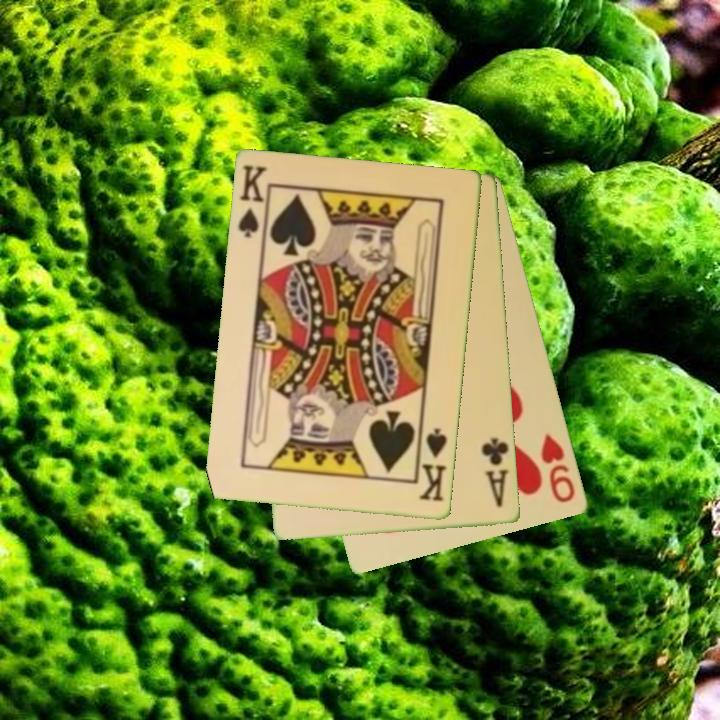9h: (538, 431, 578, 506)
Ac: (478, 435, 512, 510)
Ks: (235, 162, 272, 245), (415, 424, 450, 505)
